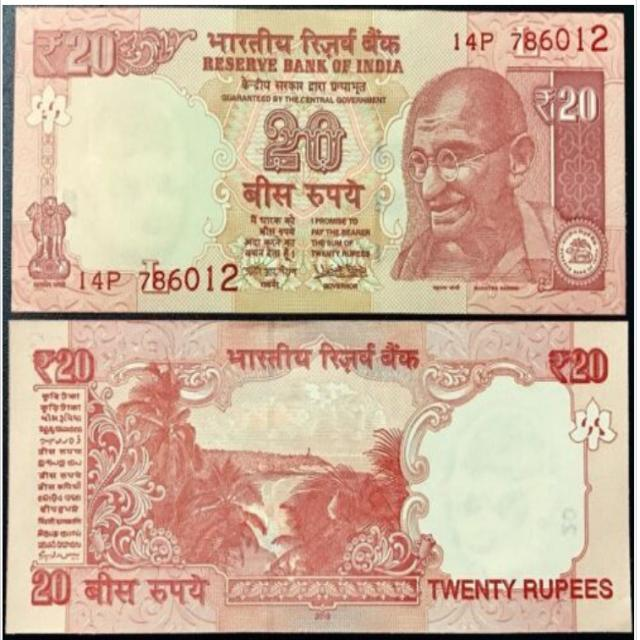20IndianRupees: (11, 324, 629, 632)
